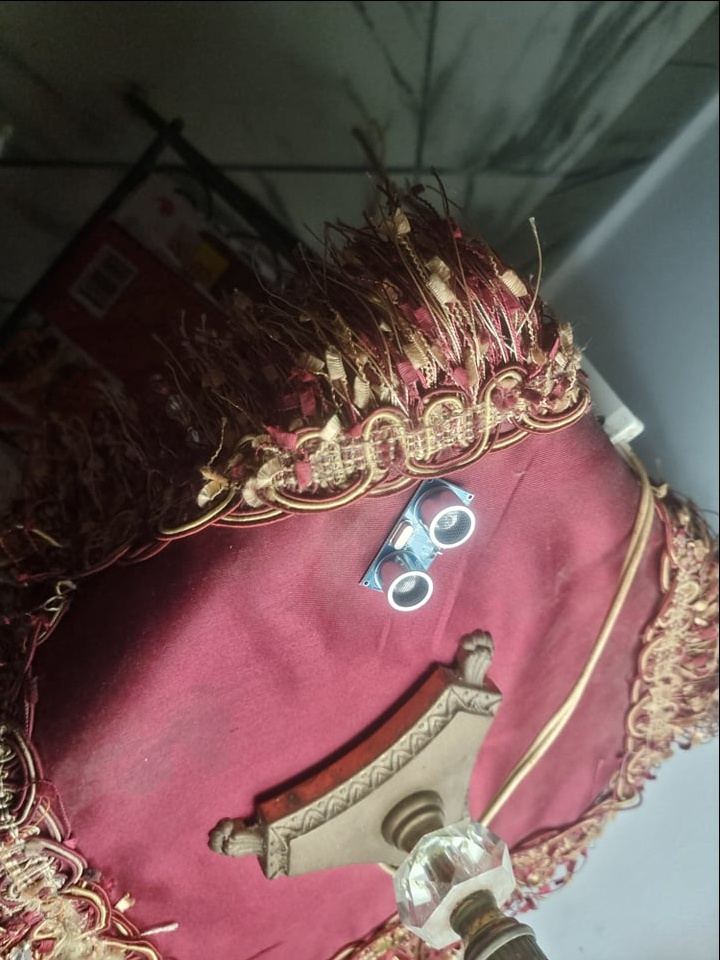SENSOR: (359, 474, 479, 613)
